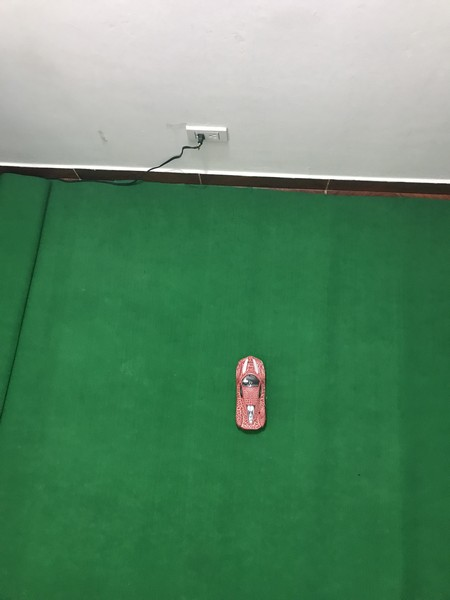RC: (232, 354, 269, 431)
